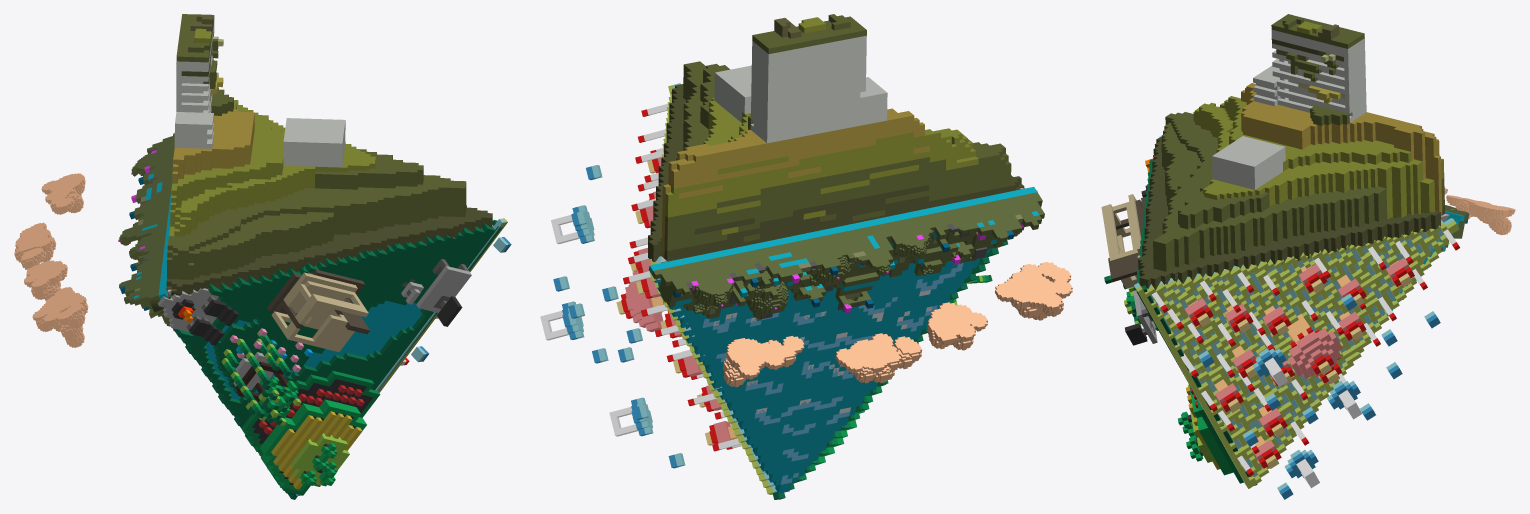
File: tetrahedron_light_noGlass.glb
The picture shows the model from 3 angles, left to right: view 1: azimuth 30°, elevation 25°; view 2: azimuth 150°, elevation 25°; view 3: azimuth 270°, elevation 25°; orthographic projection. The views are drawn at different scales.
Parts seen in each view (by area): view 1: Farm(Simone).vox, Mountain(Anjali).vox, dec_future.vox, City(Kaylee).vox.003; view 2: dec_future.vox, Mountain(Anjali).vox, City(Kaylee).vox.003, Farm(Simone).vox; view 3: Mountain(Anjali).vox, City(Kaylee).vox.003, Farm(Simone).vox, dec_future.vox.
Part boxes in pixels (bbox=[...]): Farm(Simone).vox: bbox=[158, 220, 502, 499]; Mountain(Anjali).vox: bbox=[166, 14, 492, 298]; dec_future.vox: bbox=[14, 133, 281, 487]; City(Kaylee).vox.003: bbox=[296, 218, 511, 495]; dec_future.vox: bbox=[648, 187, 1072, 493]; Mountain(Anjali).vox: bbox=[648, 14, 1024, 261]; City(Kaylee).vox.003: bbox=[540, 83, 777, 494]; Farm(Simone).vox: bbox=[671, 92, 1037, 499]; Mountain(Anjali).vox: bbox=[1138, 14, 1445, 289]; City(Kaylee).vox.003: bbox=[1134, 218, 1459, 499]; Farm(Simone).vox: bbox=[1101, 155, 1257, 485]; dec_future.vox: bbox=[1159, 136, 1515, 351].
Bounding box in the file's own units: 9.73 × 9.62 × 8.22.
5 materials, 5 textured.
